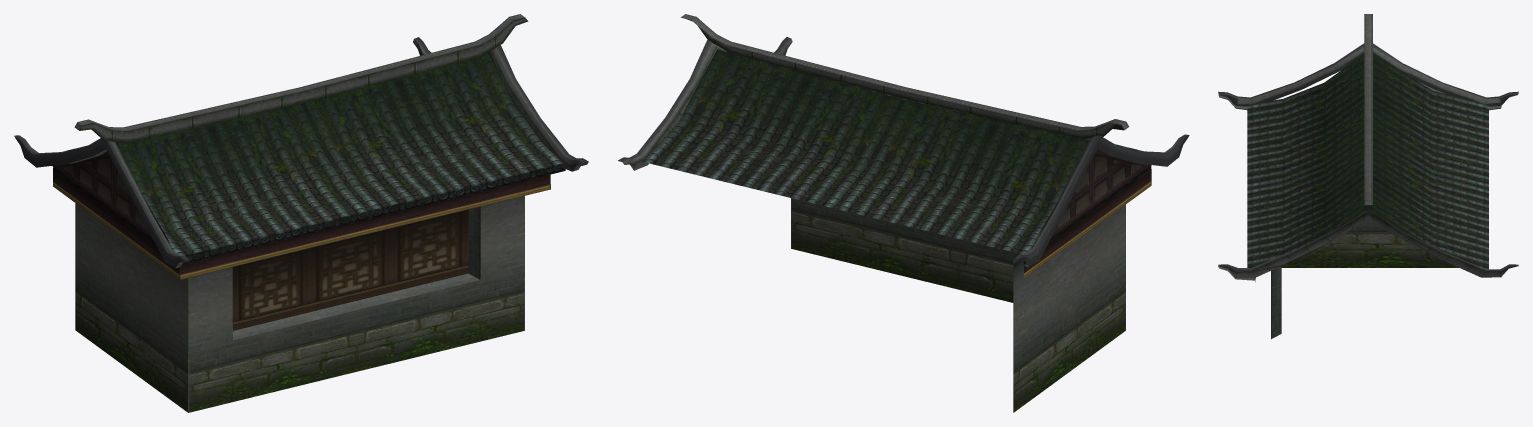
File: zc_erhai_zhujian02.FBX
The picture shows the model from 3 angles, left to right: view 1: azimuth 30°, elevation 25°; view 2: azimuth 150°, elevation 25°; view 3: azimuth 270°, elevation 25°; orthographic projection. The views are drawn at different scales.
Visible parts, largest first — view 1: zc_erhai_zhujian02; view 2: zc_erhai_zhujian02; view 3: zc_erhai_zhujian02.
Boxes of the visible parts, <box> form: zc_erhai_zhujian02: <box>14,14,588,412</box>; zc_erhai_zhujian02: <box>618,14,1189,412</box>; zc_erhai_zhujian02: <box>1218,14,1518,339</box>.
Bounding box in the file's own units: 689 × 384 × 452.
